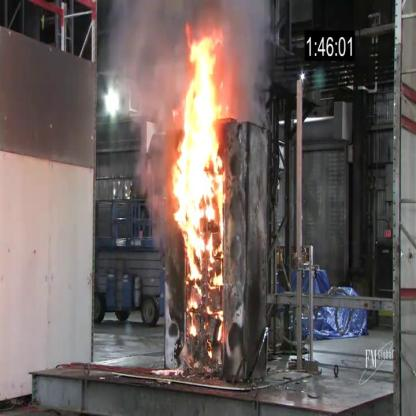fire: (169, 30, 231, 352)
